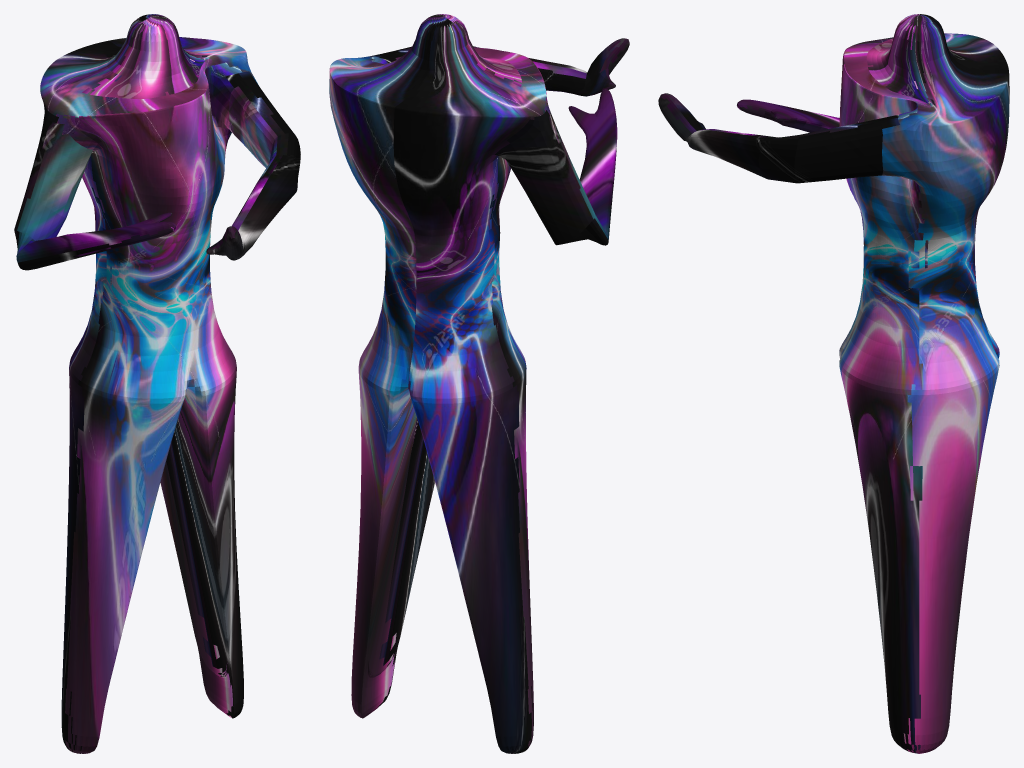
The model's file is HaloPlayerBody2.obj.
3 renders of one model, left to right at view 1: azimuth 30°, elevation 25°; view 2: azimuth 150°, elevation 25°; view 3: azimuth 270°, elevation 25°, orthographic. The views are drawn at different scales.
Parts seen in each view (by area): view 1: Cylinder_Cylinder.001; view 2: Cylinder_Cylinder.001; view 3: Cylinder_Cylinder.001.
Part boxes in pixels (box(x1,y1,x2,y2)): Cylinder_Cylinder.001: box(14, 14, 300, 753); Cylinder_Cylinder.001: box(329, 14, 629, 753); Cylinder_Cylinder.001: box(658, 14, 1009, 753).
Bounding box in the file's own units: 0.1866 × 0.5074 × 0.23.
1 material, 1 textured.
